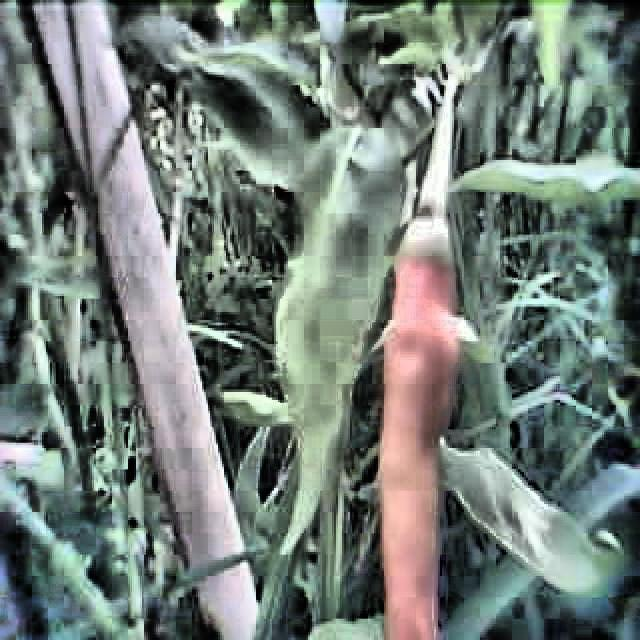Cabai: (368, 229, 478, 640)
